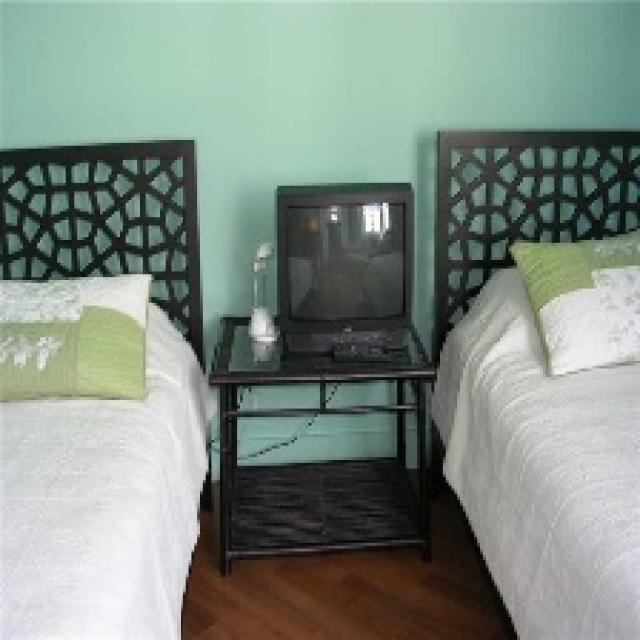Bed: (429, 126, 637, 637), (0, 137, 209, 637)
TV: (280, 183, 411, 344)
